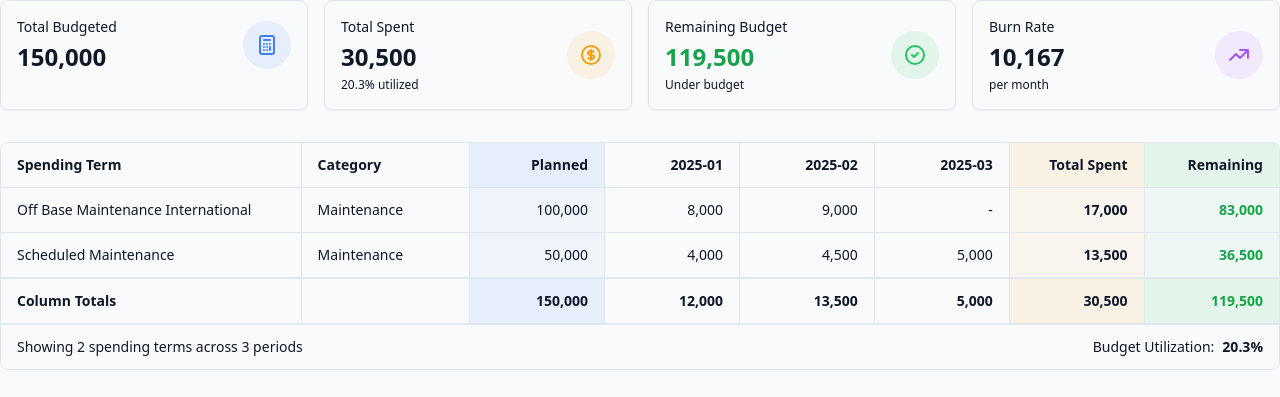
Test: BudgetTable › Inline Editing - Planned Amount › should enable editing when clicking on planned amount cell
This screenshot has width=1280, height=397.
Click the text "100,000" at (562, 210), box [536,200,588,220]
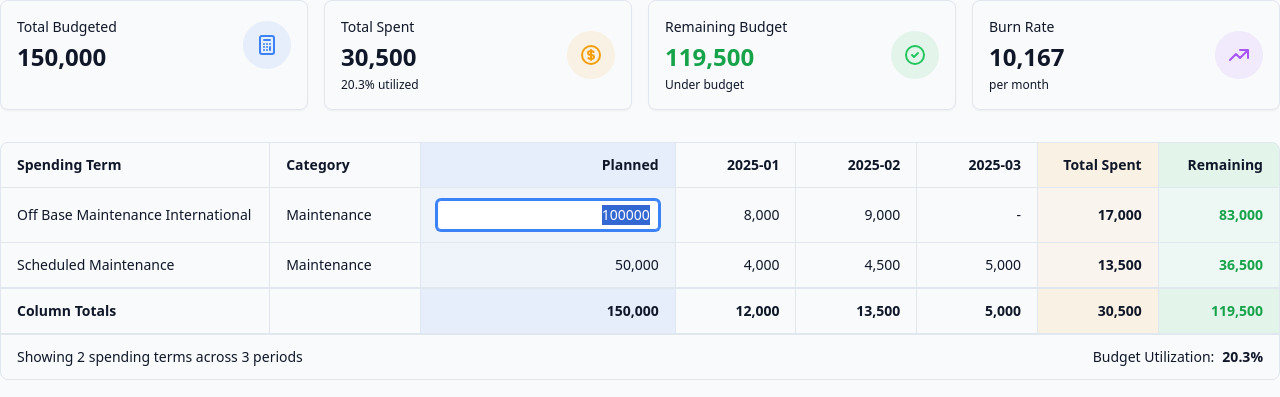
Now the field holds "100000", box [437,200,659,230]
